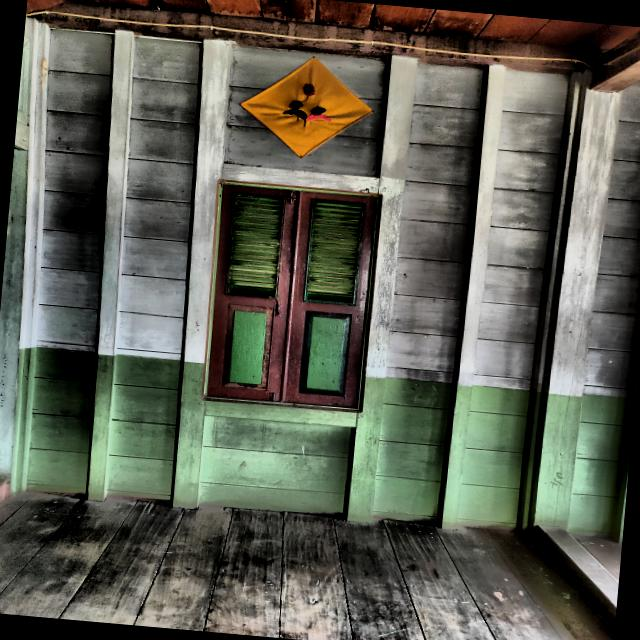wall: (20, 28, 640, 539)
window: (205, 182, 381, 410)
